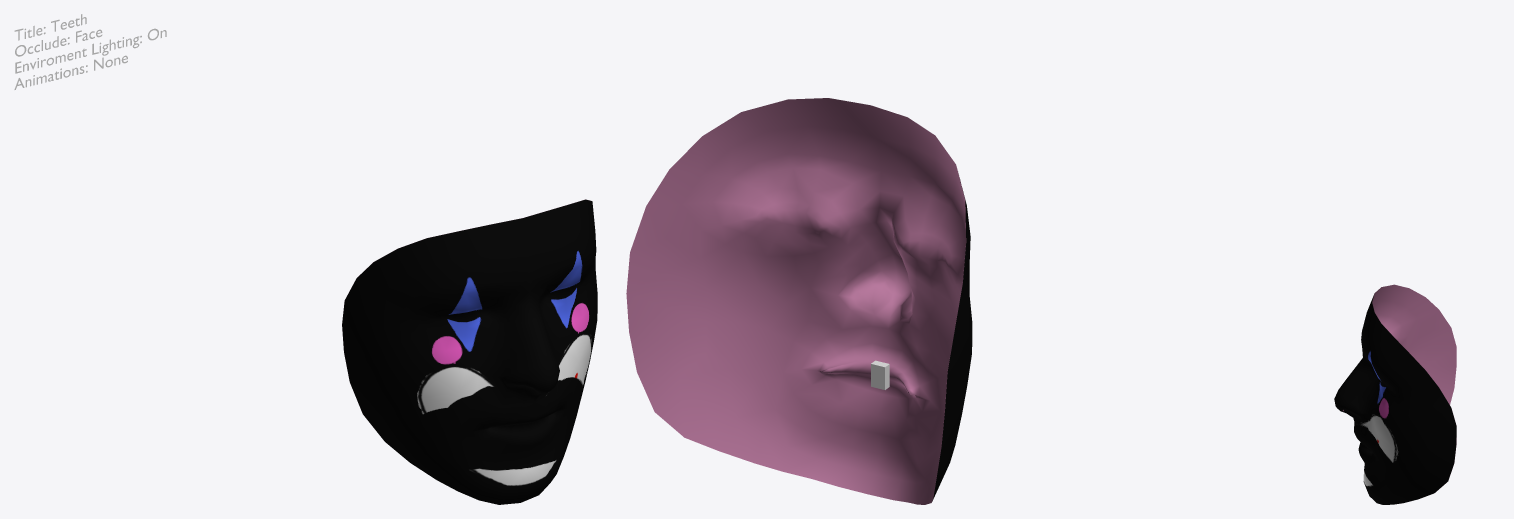
File: Teeth.glb
3 renders of one model, left to right at view 1: azimuth 30°, elevation 25°; view 2: azimuth 150°, elevation 25°; view 3: azimuth 270°, elevation 25°, orthographic. The views are drawn at different scales.
Visible parts, largest first — view 1: Teeth, _Teeth; view 2: OccluderFace, Teeth; view 3: Teeth, OccluderFace.
Boxes of the visible parts, x1,y1,x2,y2 form: Teeth: [342, 199, 597, 504]; _Teeth: [14, 14, 166, 89]; OccluderFace: [626, 98, 966, 504]; Teeth: [932, 179, 972, 501]; Teeth: [1334, 294, 1456, 504]; OccluderFace: [1342, 284, 1456, 492].
Size of the model in its own units: 34.54 by 31.27 by 13.56.
Materials: 3 (1 with a texture image).
